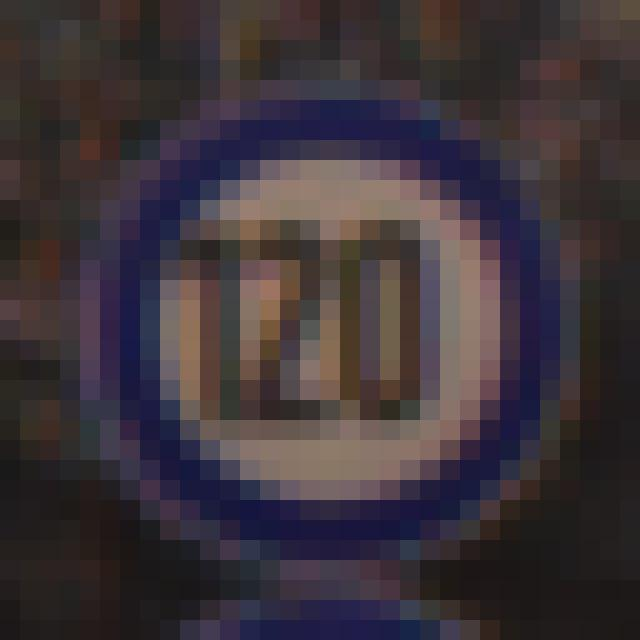SPEED LIMIT 120: (84, 83, 584, 575)
